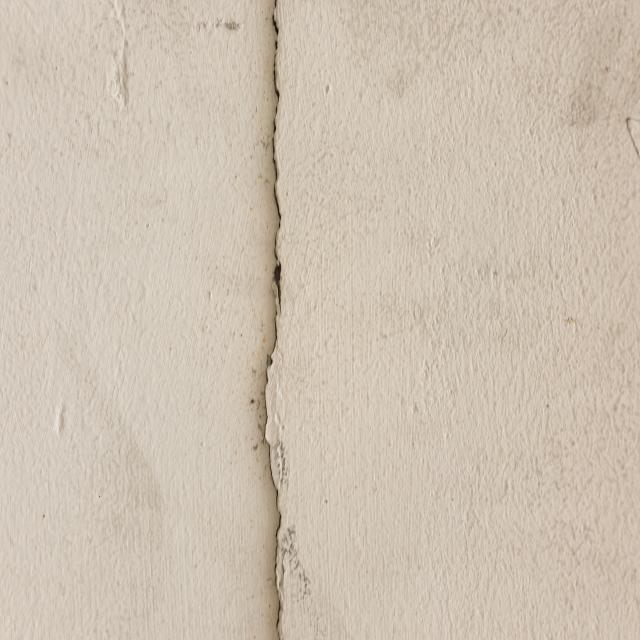SurfaceCrack: (206, 0, 343, 640)
